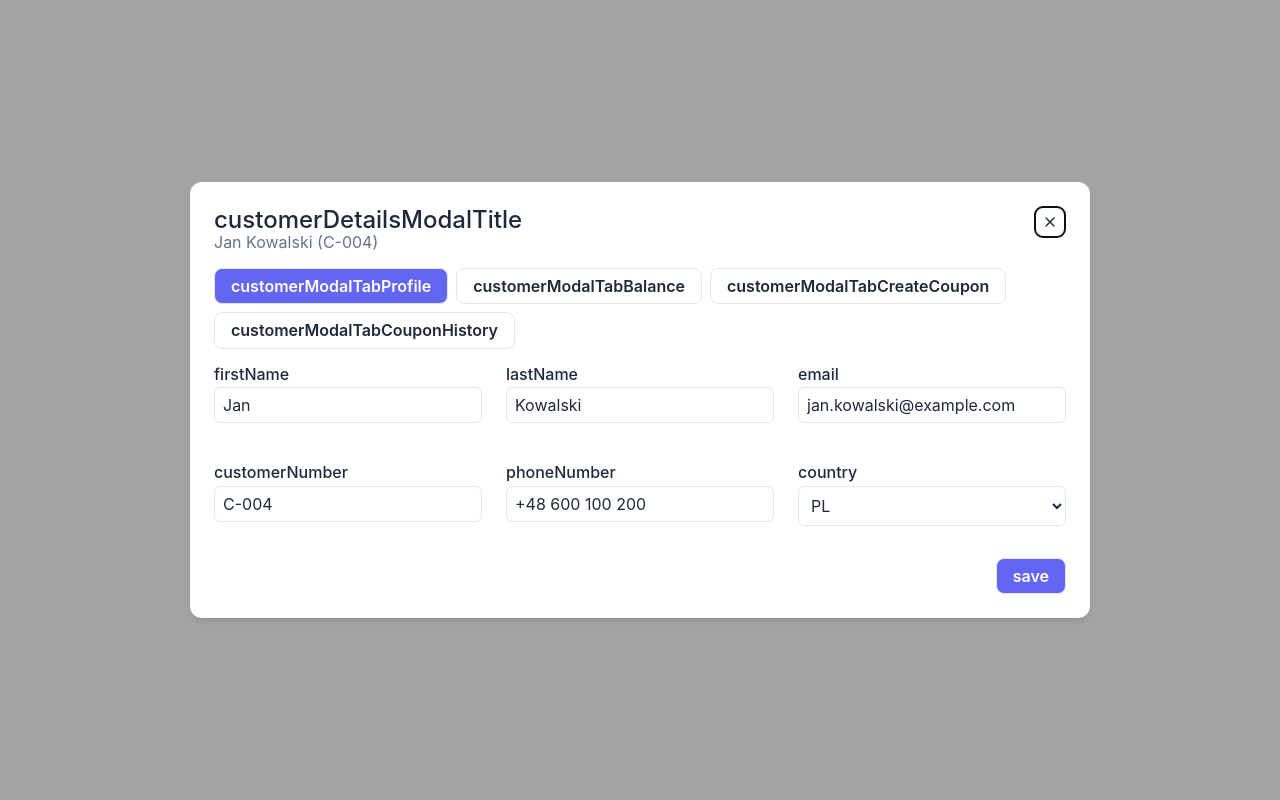
Test case: CustomerDetailsModal › blocks a save with an invalid e-mail
Replace the text in the field labelled "email" with "zly-adres" at (932, 405), box [798,387,1066,423]
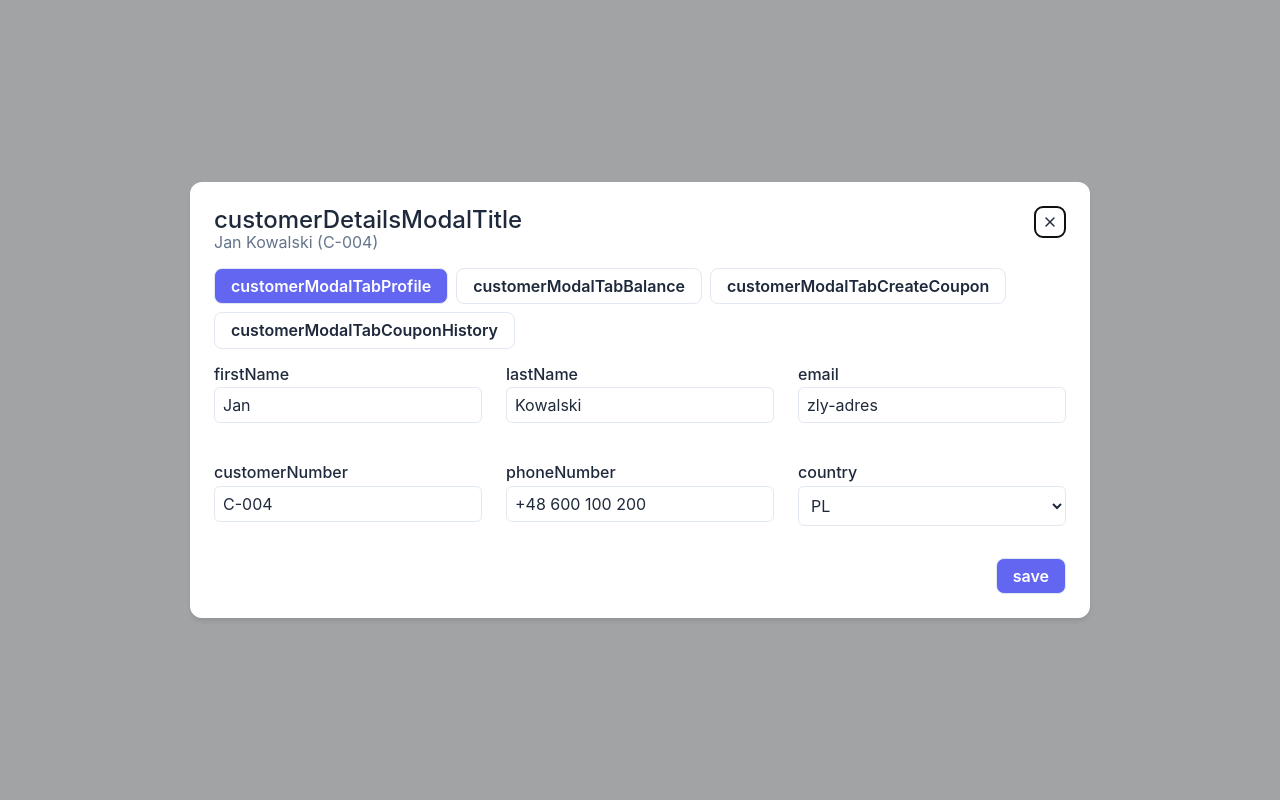
Click the button "save".
click(1031, 576)  # box [996,558,1066,594]
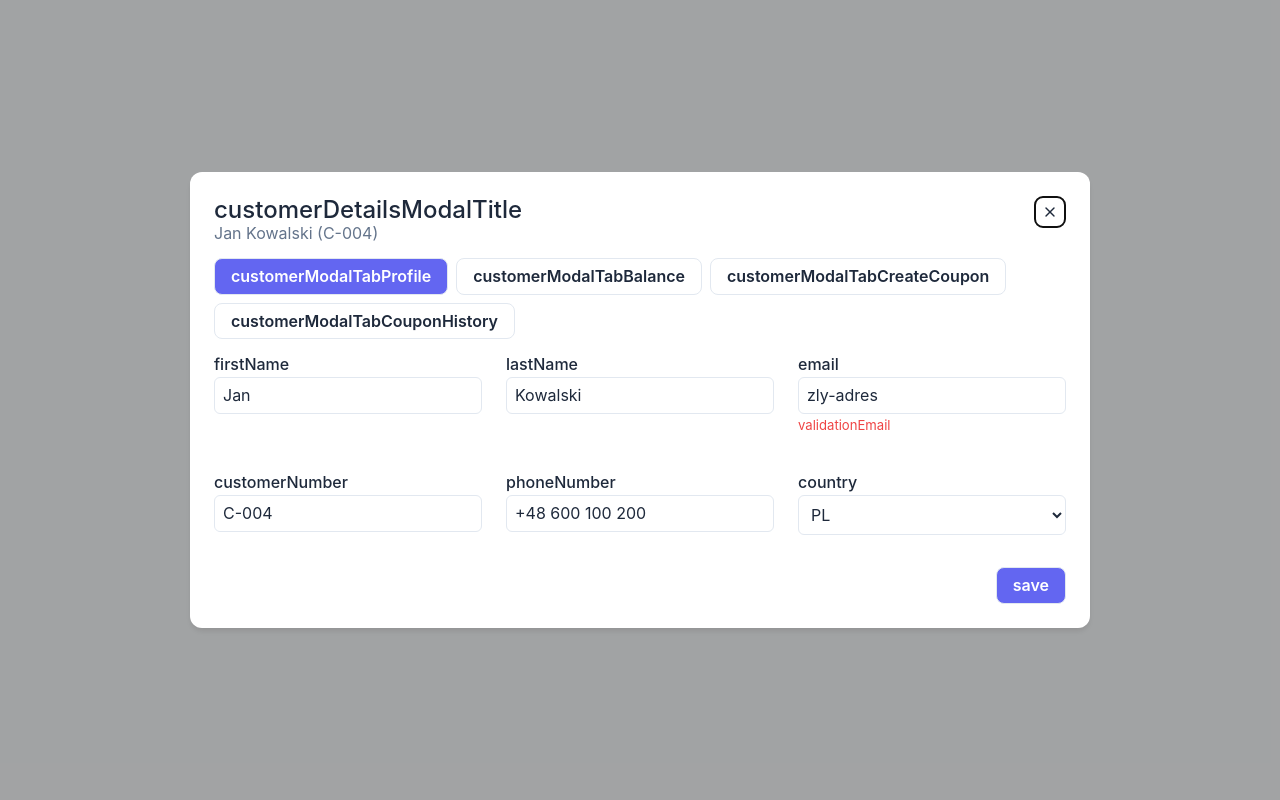
Check: the text "validationEmail" is shown, box [798,417,890,433]
